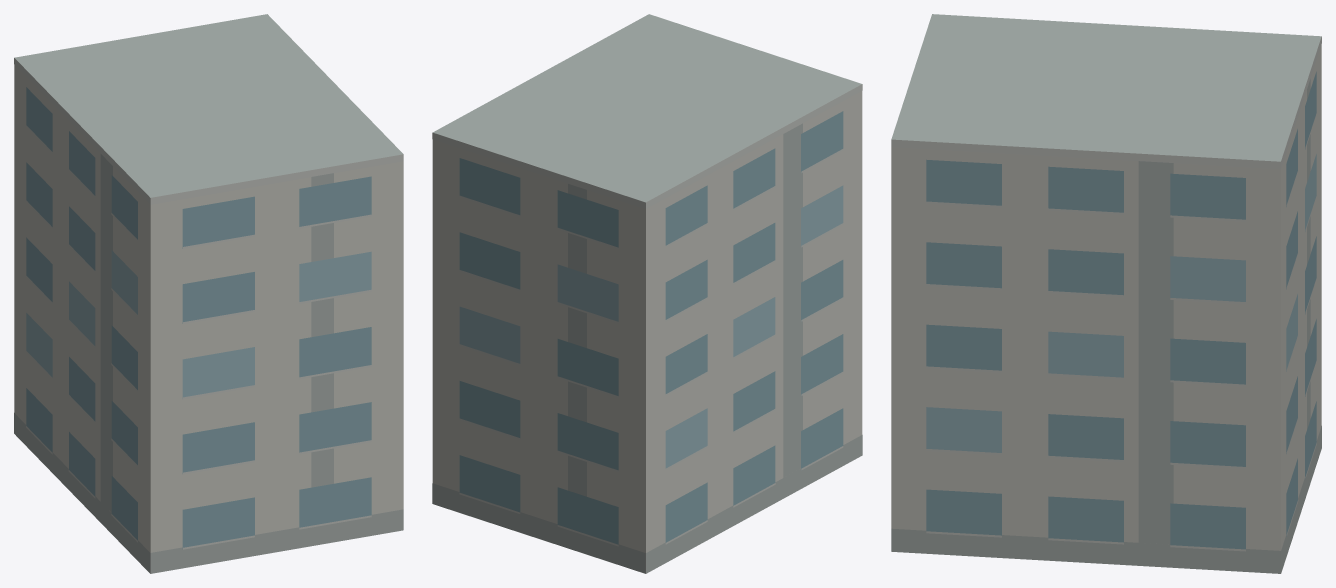
File: survey-upis-32835250.glb
3 views of the same model, side by side, from view 1: azimuth 30°, elevation 25°; view 2: azimuth 150°, elevation 25°; view 3: azimuth 270°, elevation 25° (orthographic). The views are drawn at different scales.
Visible parts, largest first — view 1: survey-upis-32835250.tmp; view 2: survey-upis-32835250.tmp; view 3: survey-upis-32835250.tmp.
Boxes of the visible parts, x1=… form: survey-upis-32835250.tmp: x1=14, y1=14, x2=403, y2=573; survey-upis-32835250.tmp: x1=432, y1=14, x2=862, y2=573; survey-upis-32835250.tmp: x1=891, y1=14, x2=1321, y2=573.
Bounding box in the file's own units: 10.31 × 13.4 × 12.69.
